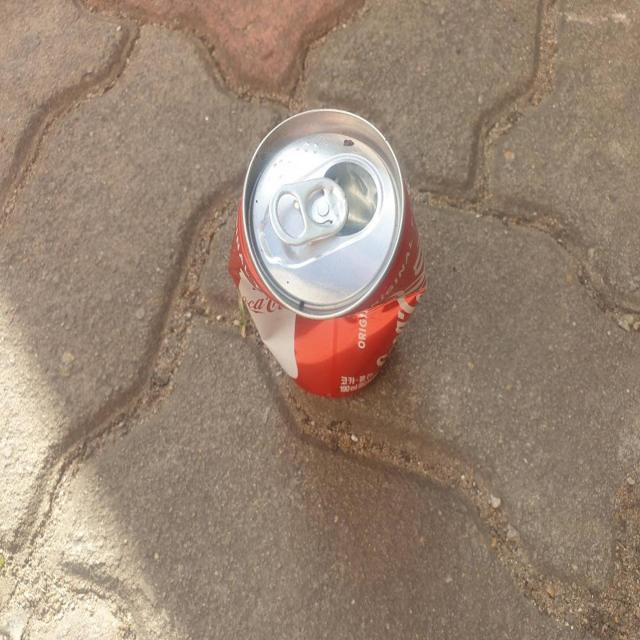can: (228, 108, 426, 397)
